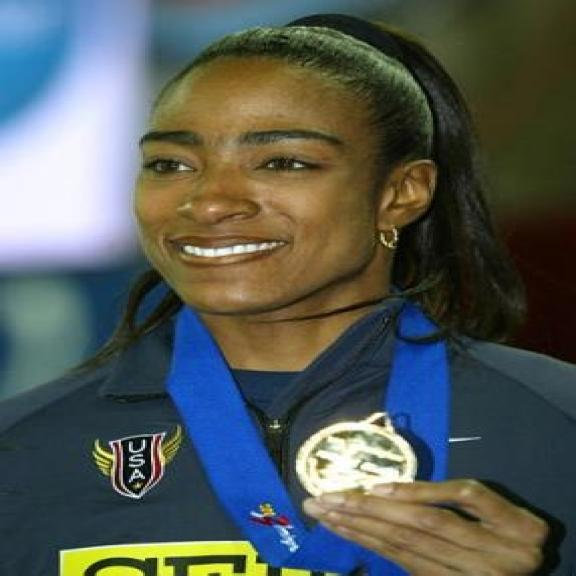face: (135, 70, 438, 326)
